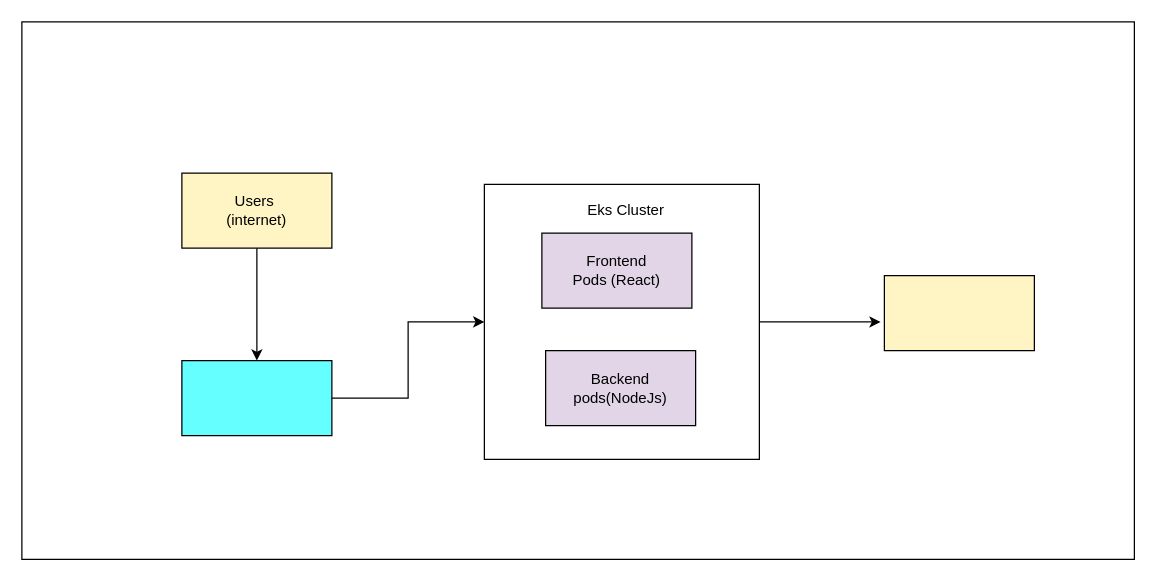
The diagram is 1156 pixels wide and 581 high, and some of its shapes have lost their labels. The centre of each missing label's shape, as x and y in pixels:
ALB (port 80): (x=256, y=397)
Openweather API: (x=958, y=312)
